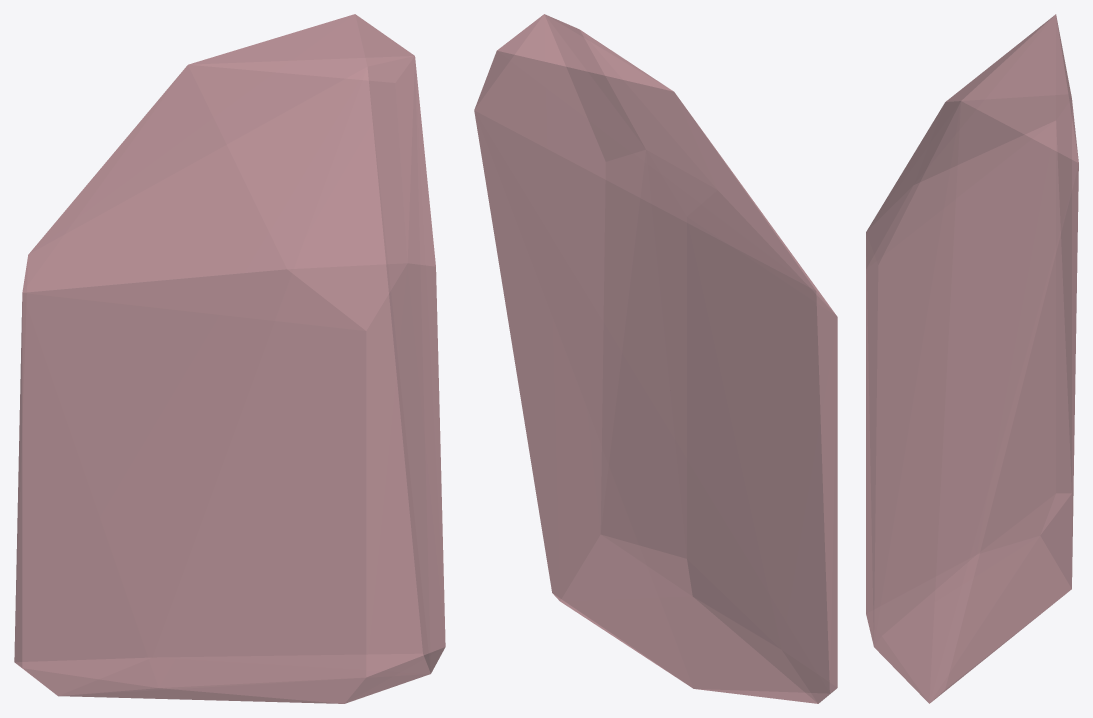
The picture shows the model from 3 angles, left to right: view 1: azimuth 30°, elevation 25°; view 2: azimuth 150°, elevation 25°; view 3: azimuth 270°, elevation 25°; orthographic projection.
Parts seen in each view (by area): view 1: Shape_IndexedFaceSet.004_Shape_IndexedFaceSet.15854; view 2: Shape_IndexedFaceSet.004_Shape_IndexedFaceSet.15854; view 3: Shape_IndexedFaceSet.004_Shape_IndexedFaceSet.15854.
Boxes of the visible parts, x1,y1,x2,y2 form: Shape_IndexedFaceSet.004_Shape_IndexedFaceSet.15854: (14, 14, 445, 703); Shape_IndexedFaceSet.004_Shape_IndexedFaceSet.15854: (474, 14, 837, 703); Shape_IndexedFaceSet.004_Shape_IndexedFaceSet.15854: (866, 14, 1078, 703).
Bounding box in the file's own units: 0.0592 × 0.0967 × 0.0308.
